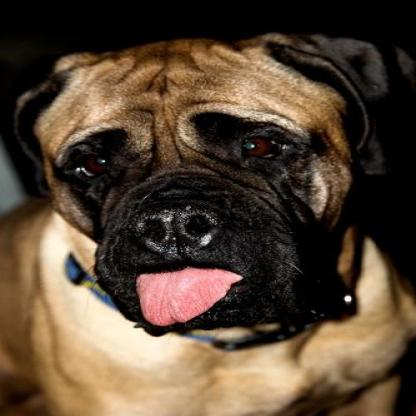bull_mastiff: (0, 29, 412, 413)
